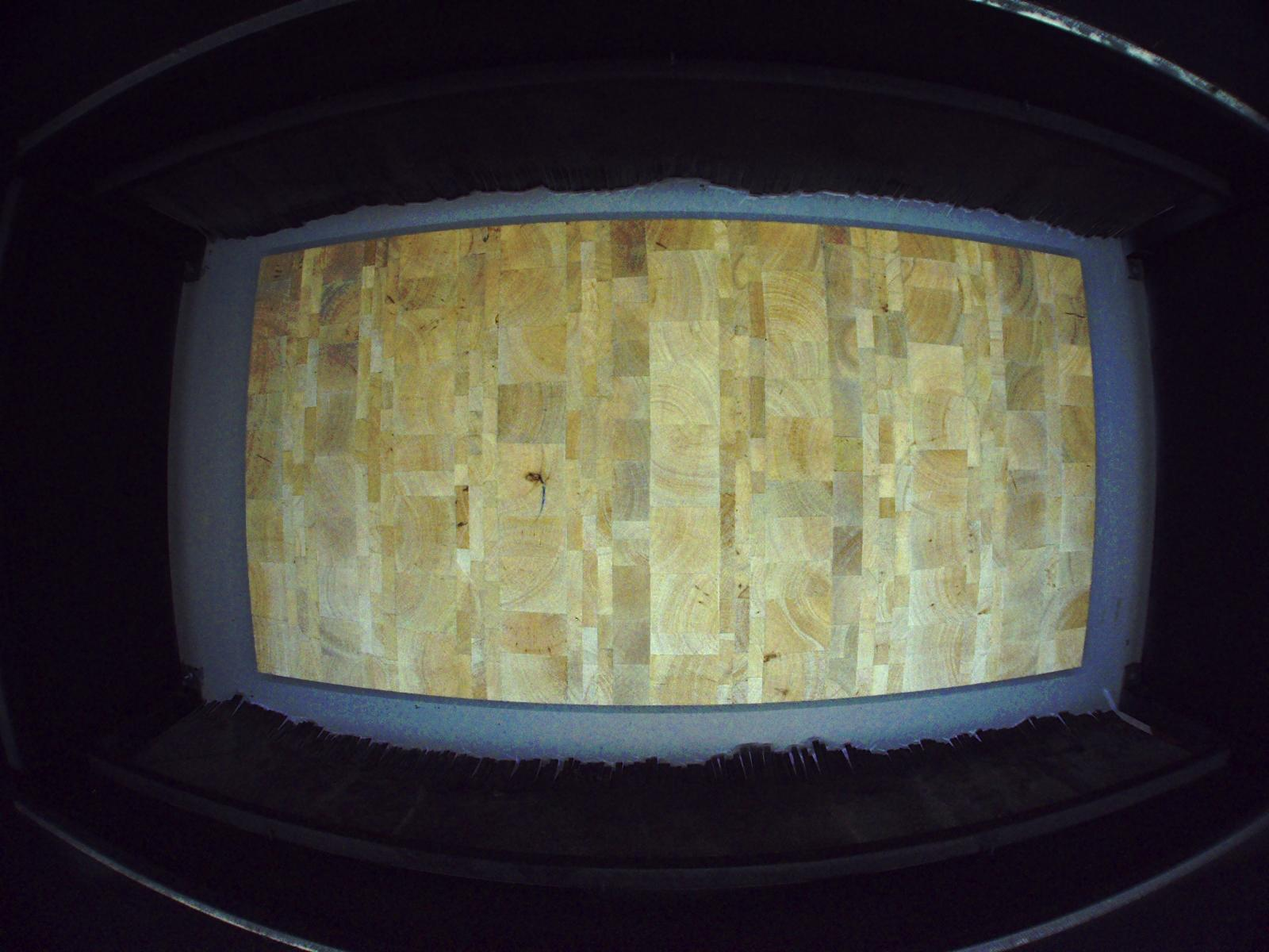sheck_ecuatoriano: (524, 445, 545, 497)
